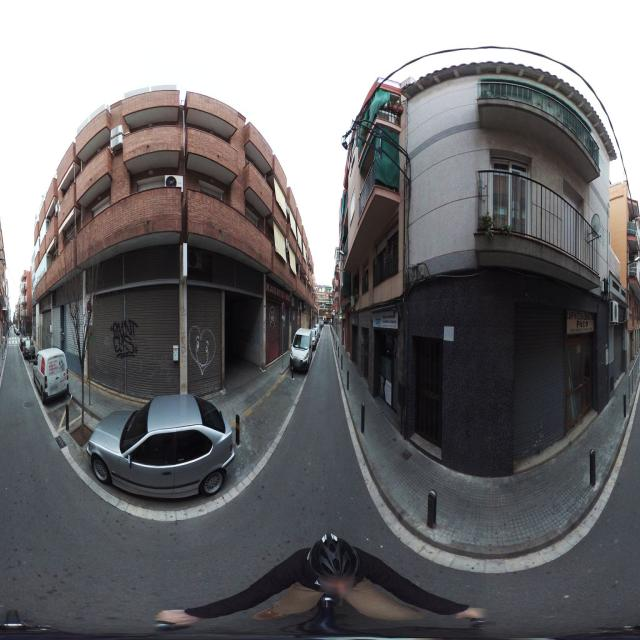forb_stopping: (282, 302, 285, 316)
